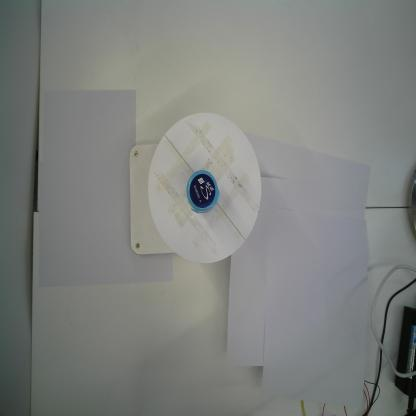Gum: (186, 170, 219, 214)
